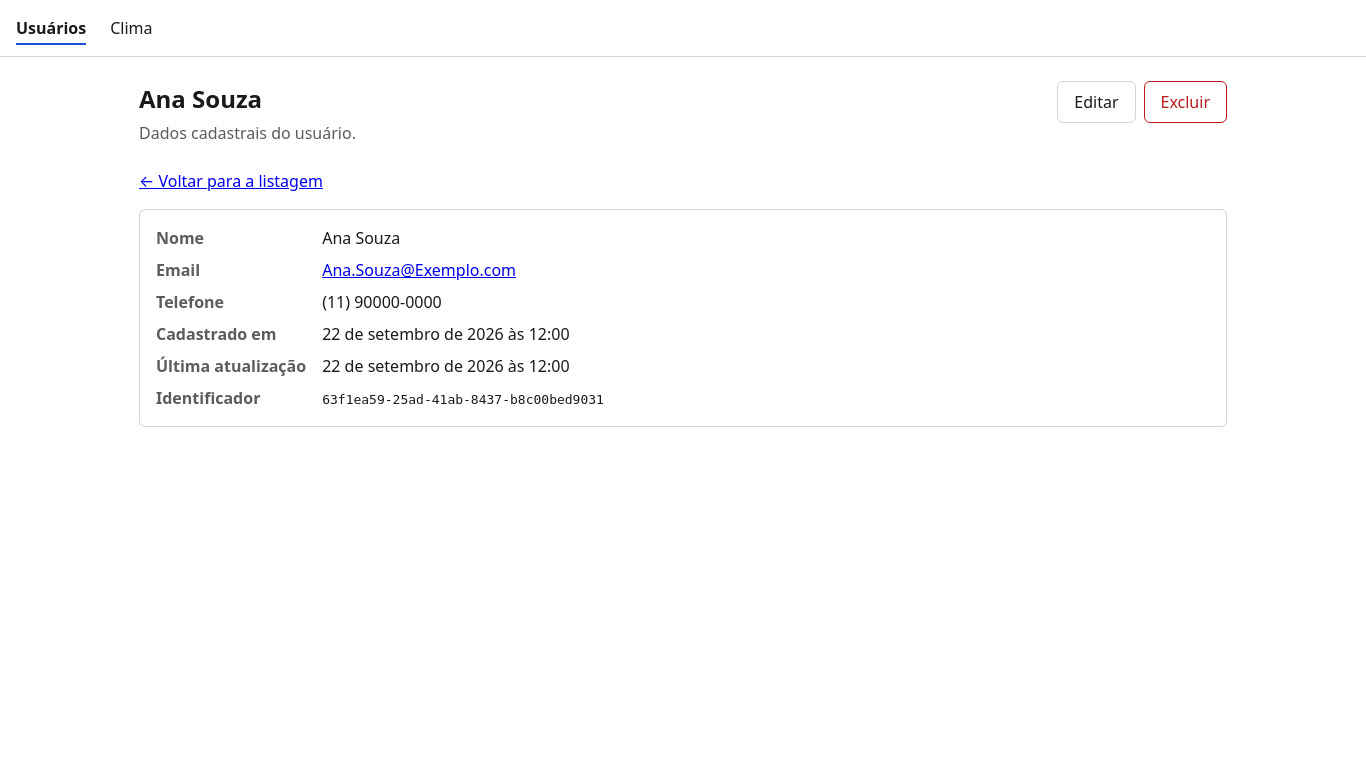
Test: confirmação de exclusão › cancelar fecha a confirmação sem remover
This screenshot has width=1366, height=768.
Click the button "Excluir" at (1185,102), box [1144,81,1227,123]
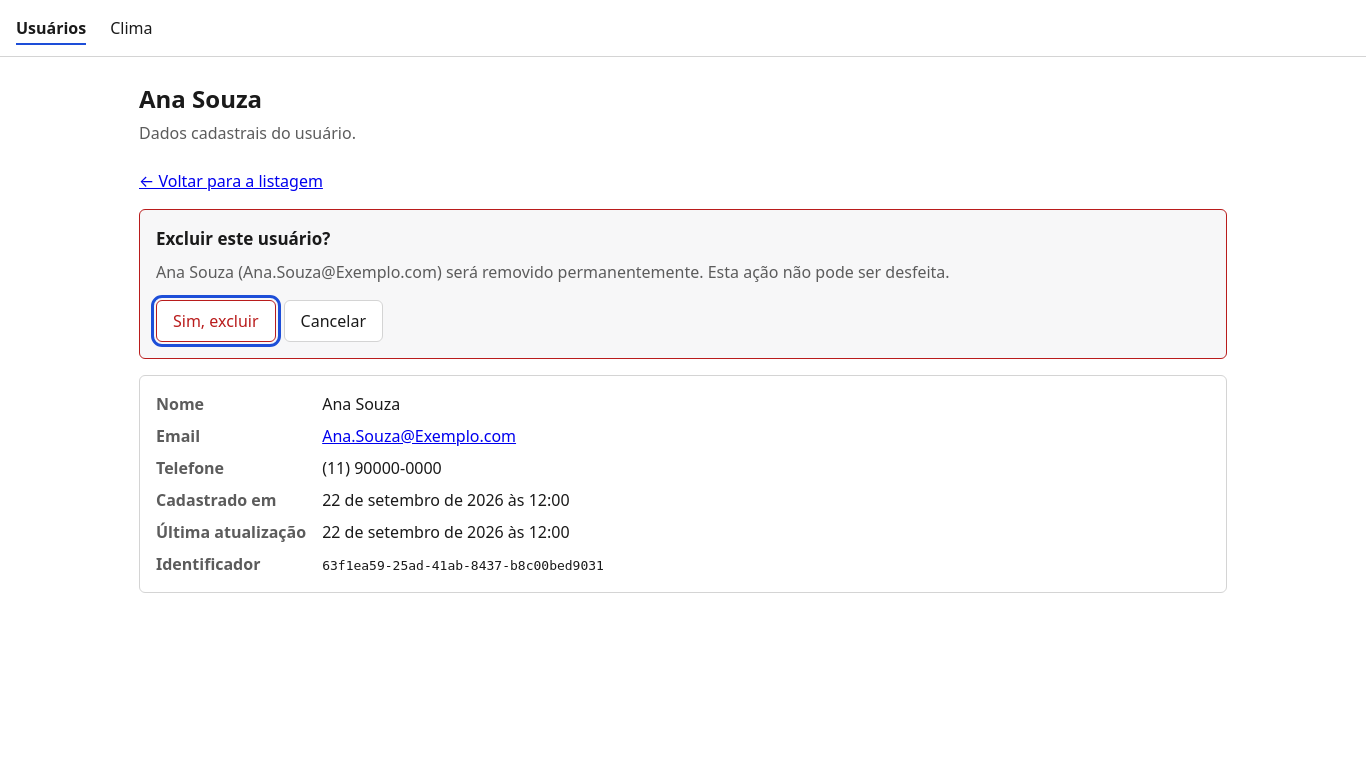
Click the button "Cancelar" at (333,320), box [284,300,383,342]
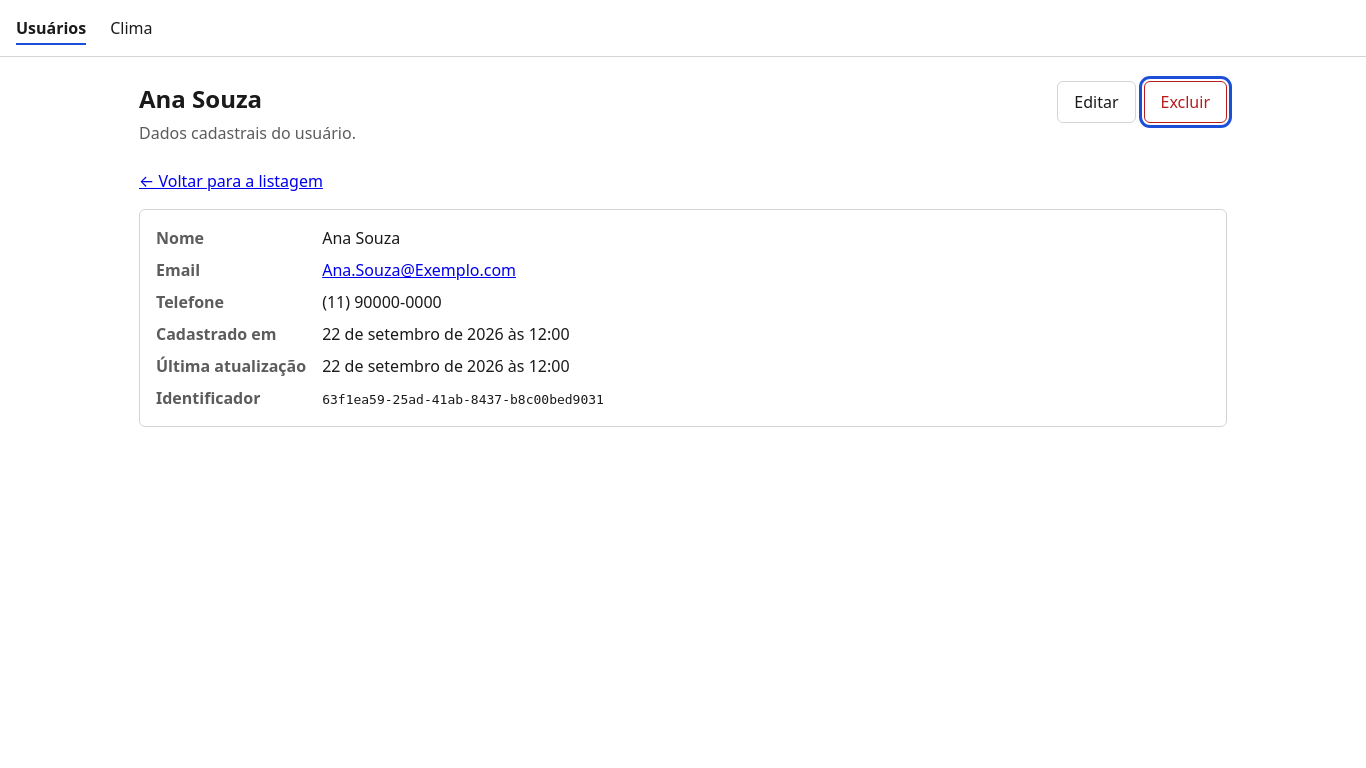
Check: the dialog is gone
